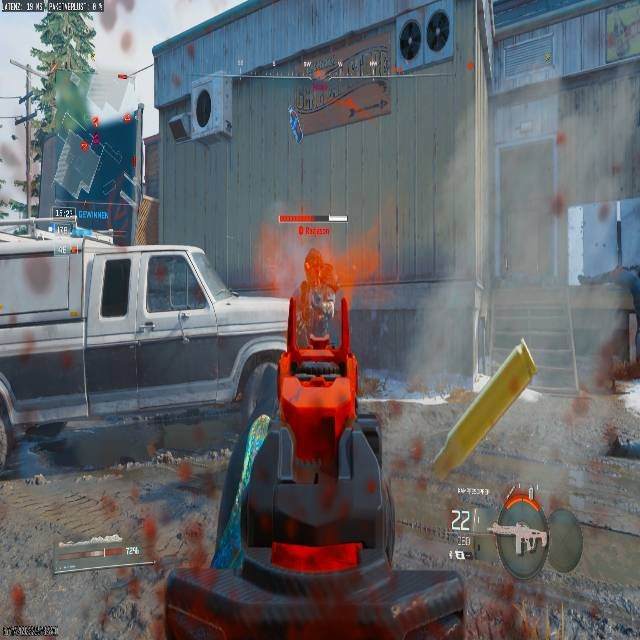head: (306, 248, 322, 264)
player: (302, 248, 342, 315)
